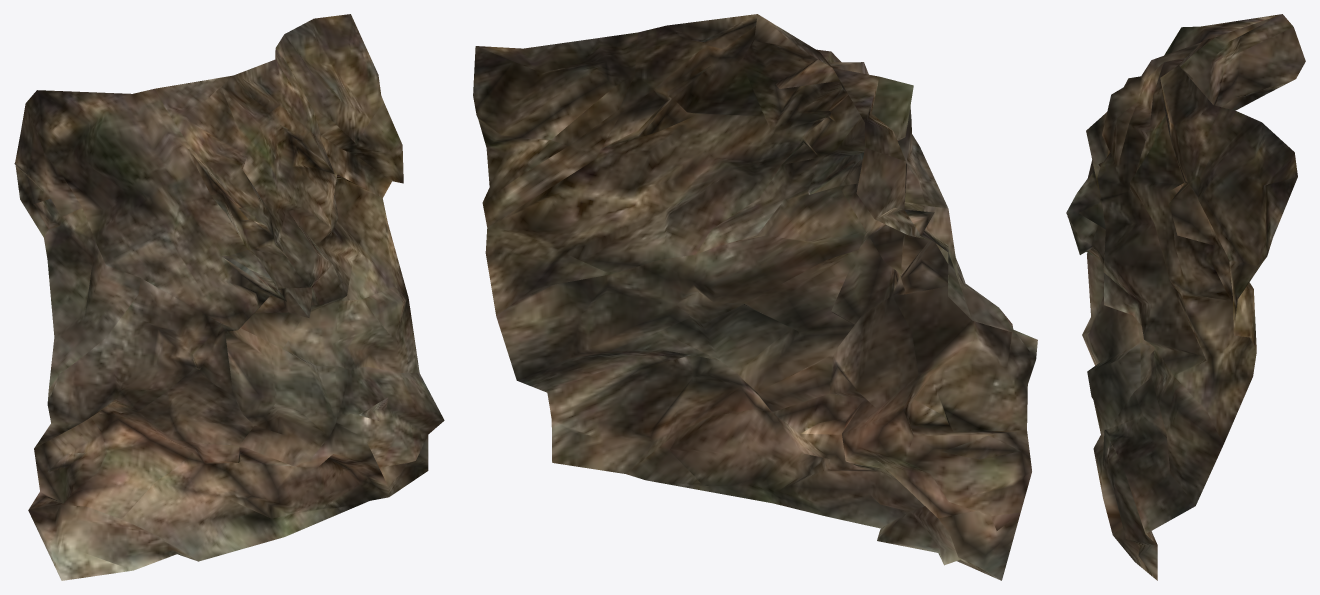
The model's file is mountainside_lod1.glb.
3 views of the same model, side by side, from view 1: azimuth 30°, elevation 25°; view 2: azimuth 150°, elevation 25°; view 3: azimuth 270°, elevation 25° (orthographic). The views are drawn at different scales.
Visible parts, largest first — view 1: mountainside; view 2: mountainside; view 3: mountainside.
Part boxes in pixels (left/top/right/bottom): mountainside: left=14, top=14, right=444, bottom=580; mountainside: left=473, top=14, right=1037, bottom=580; mountainside: left=1066, top=14, right=1305, bottom=580.
Bounding box in the file's own units: 10.15 × 10.48 × 5.17.
1 material, 1 textured.
